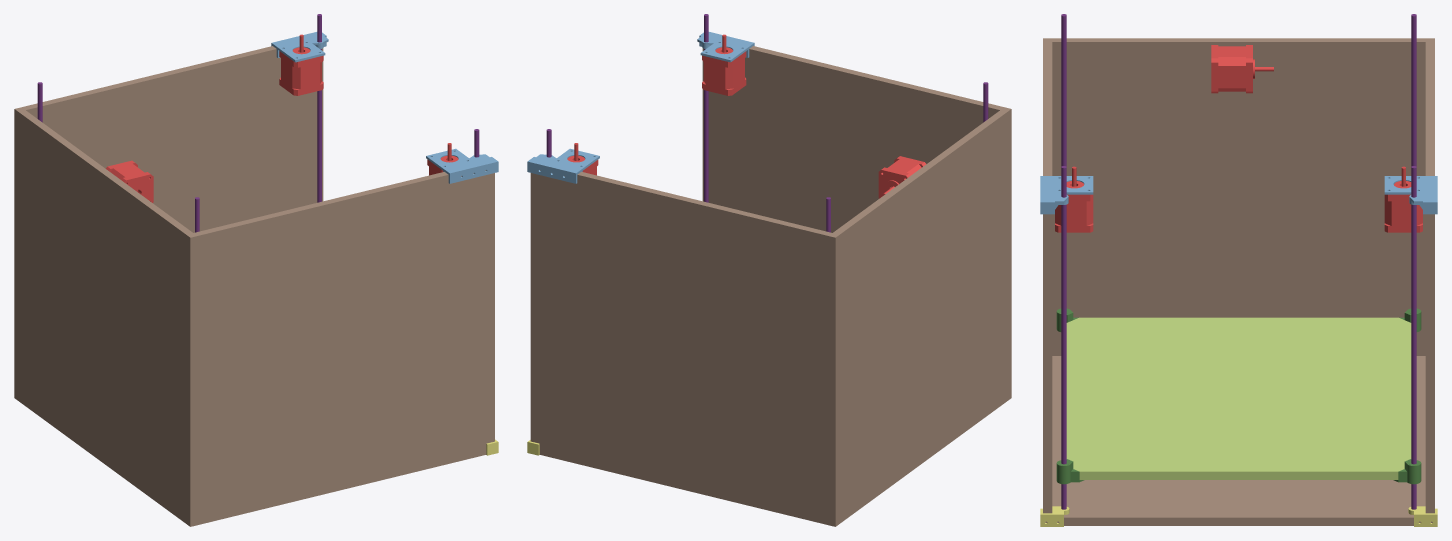
Rendered from smartCoreModOch_v6.obj.
The picture shows the model from 3 angles, left to right: view 1: azimuth 30°, elevation 25°; view 2: azimuth 150°, elevation 25°; view 3: azimuth 270°, elevation 25°; orthographic projection. The views are drawn at different scales.
Parts seen in each view (by area): view 1: Mesh8 gauche1 Model, Mesh9 back1 Model, Mesh10 droite1 Model, Mesh7 fond1 Model, Mesh25 moteur1_left1 Model, Mesh27 moteur1_left2 Model, Mesh23 nema17_3 Model, Mesh13 barre6mm3 Model, Mesh16 Component_1_1 nema17_1 Model; view 2: Mesh10 droite1 Model, Mesh9 back1 Model, Mesh8 gauche1 Model, Mesh7 fond1 Model, Mesh27 moteur1_left2 Model, Mesh25 moteur1_left1 Model, Mesh20 nema17_2 Model, Mesh14 barre6mm4 Model, Mesh15 Component_2_1 nema17_1 Model; view 3: Mesh9 back1 Model, Mesh24 plateau1 Model, Mesh7 fond1 Model, Mesh8 gauche1 Model, Mesh10 droite1 Model, Mesh13 barre6mm3 Model, Mesh14 barre6mm4 Model, Mesh17 nema17_1 Model, Mesh25 moteur1_left1 Model, Mesh27 moteur1_left2 Model, Mesh11 barre6mm1 Model, Mesh12 barre6mm2 Model (+7 smaller).
Boxes of the visible parts, left/top/right/bottom form: Mesh8 gauche1 Model: left=186, top=170, right=494, bottom=519; Mesh9 back1 Model: left=18, top=110, right=192, bottom=515; Mesh10 droite1 Model: left=14, top=46, right=323, bottom=393; Mesh7 fond1 Model: left=14, top=391, right=486, bottom=526; Mesh25 moteur1_left1 Model: left=426, top=148, right=498, bottom=183; Mesh27 moteur1_left2 Model: left=271, top=32, right=328, bottom=62; Mesh23 nema17_3 Model: left=281, top=58, right=321, bottom=89; Mesh13 barre6mm3 Model: left=317, top=14, right=321, bottom=202; Mesh16 Component_1_1 nema17_1 Model: left=121, top=172, right=153, bottom=202; Mesh10 droite1 Model: left=530, top=170, right=839, bottom=519; Mesh9 back1 Model: left=833, top=110, right=1007, bottom=515; Mesh8 gauche1 Model: left=702, top=46, right=1011, bottom=393; Mesh7 fond1 Model: left=539, top=391, right=1011, bottom=526; Mesh27 moteur1_left2 Model: left=527, top=148, right=599, bottom=183; Mesh25 moteur1_left1 Model: left=697, top=32, right=754, bottom=62; Mesh20 nema17_2 Model: left=703, top=58, right=744, bottom=89; Mesh14 barre6mm4 Model: left=704, top=14, right=708, bottom=202; Mesh15 Component_2_1 nema17_1 Model: left=878, top=167, right=910, bottom=198; Mesh9 back1 Model: left=1052, top=38, right=1425, bottom=355; Mesh24 plateau1 Model: left=1066, top=317, right=1411, bottom=479; Mesh7 fond1 Model: left=1045, top=356, right=1432, bottom=525; Mesh8 gauche1 Model: left=1043, top=38, right=1052, bottom=513; Mesh10 droite1 Model: left=1425, top=38, right=1434, bottom=513; Mesh13 barre6mm3 Model: left=1411, top=166, right=1416, bottom=509; Mesh14 barre6mm4 Model: left=1061, top=166, right=1066, bottom=509; Mesh17 nema17_1 Model: left=1218, top=46, right=1245, bottom=91; Mesh25 moteur1_left1 Model: left=1040, top=176, right=1093, bottom=214; Mesh27 moteur1_left2 Model: left=1384, top=176, right=1437, bottom=214; Mesh11 barre6mm1 Model: left=1061, top=14, right=1066, bottom=166; Mesh12 barre6mm2 Model: left=1411, top=14, right=1416, bottom=166.
Bounding box in the file's own units: 433 × 429 × 436.
